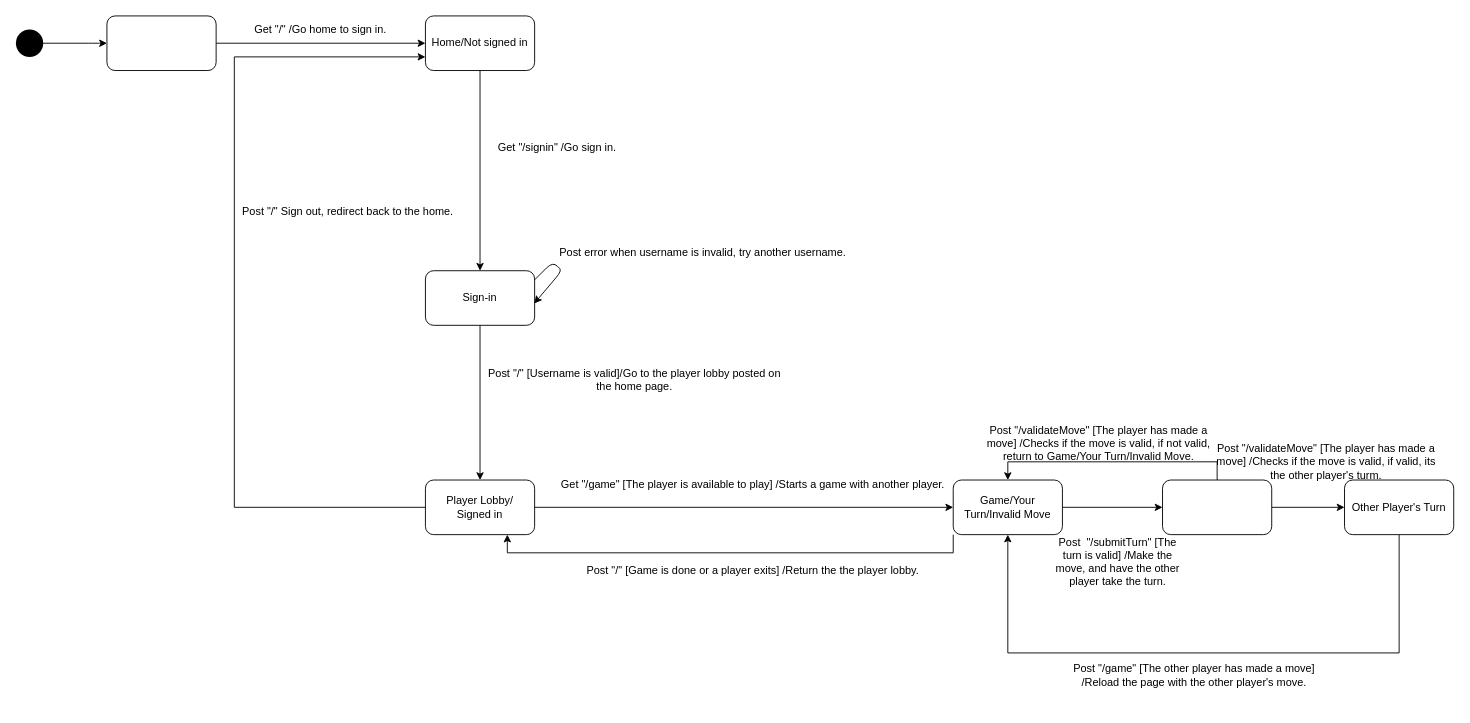
The diagram is 1470 pixels wide and 723 high, and some of its shapes have lost their labels. Each missing label, with the box of its shape:
Move submitted: (1162, 479, 1272, 535)
No Connection: (106, 15, 216, 71)
